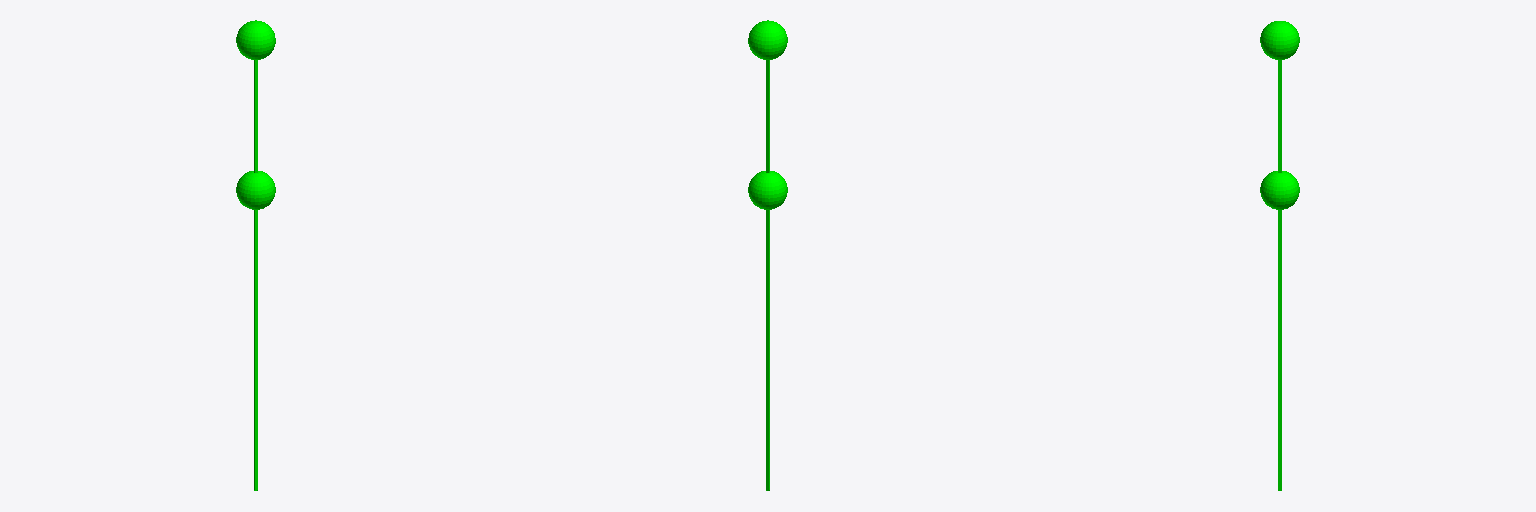
robot.urdf — pendulum:
<?xml version="1.0" ?>
<robot name="pendulum">
    <link name="world">
        <visual>
            <origin xyz="0 0 0" rpy="0 0 0" />
            <geometry>
                <sphere radius="0.005"/>
            </geometry>
            <material name="">
                <color rgba="0.0 1.0 0.0 0.4"/>
            </material>
        </visual>
        <inertial>
            <origin xyz="0.0 0.0 0.0" rpy="0.0 0.0 0.0"/>
            <mass value="1000.0"/>
            <inertia ixx="0.0" ixy="0.0" ixz="0.0" iyy="0.0" iyz="0.0" izz="0.0"/>
        </inertial>
    </link>

    <joint name="PendulumJoint" type="revolute">
      <origin xyz="0.0 0.0 0.0" rpy="0 0 0"/>
      <axis xyz="1 0 0"/>
      <parent link="world"/>
      <child link="PendulumArm"/>
      <limit effort="0" velocity="0" lower="-100" upper="100"/>
    </joint>

    <link name="PendulumArm">
        <visual>
            <origin xyz="0 0 0.5" rpy="0 0 0" />
            <geometry>
                <box size="0.01 0.01 1.0"/>
            </geometry>
            <material name="">
                <color rgba="0.0 1.0 0.0 0.4"/>
            </material>
        </visual>
        <inertial>
            <origin xyz="0.0 0.0 0.0" rpy="0.0 0.0 0.0"/>
            <mass value="0.0"/>
            <inertia ixx="0.0" ixy="0.0" ixz="0.0" iyy="0.0" iyz="0.0" izz="0.0"/>
        </inertial>
    </link>


    <joint name="PendulumMassJoint" type="fixed">
      <origin xyz="0.0 0.0 1.0" rpy="0 0 0"/>
      <parent link="PendulumArm"/>
      <child link="PendulumMass"/>
    </joint>
    <link name="PendulumMass">
        <visual>
            <origin xyz="0 0 0" rpy="0 0 0" />
            <geometry>
                <sphere radius="0.06"/>
            </geometry>
            <material name="">
                <color rgba="0.0 1.0 0.0 0.4"/>
            </material>
        </visual>
        <inertial>
            <origin xyz="0 0.0 0.0" rpy="0.0 0.0 0.0"/>
            <mass value="1.0"/>
            <inertia ixx="0.0" ixy="0.0" ixz="0.0" iyy="0.0" iyz="0.0" izz="0.0"/>
        </inertial>
    </link>

    <joint name="SecondPendulumJoint" type="revolute">
      <origin xyz="0.0 0.0 0.0" rpy="0 0 0"/>
      <axis xyz="1 0 0"/>
      <parent link="PendulumMass"/>
      <child link="SecondPendulumArm"/>
      <limit effort="0" velocity="0" lower="-100" upper="100"/>
    </joint>

    <link name="SecondPendulumArm">
        <visual>
            <origin xyz="0 0 0.25" rpy="0 0 0" />
            <geometry>
                <box size="0.01 0.01 0.5"/>
            </geometry>
            <material name="">
                <color rgba="0.0 1.0 0.0 0.4"/>
            </material>
        </visual>
        <inertial>
            <origin xyz="0.0 0.0 0.0" rpy="0.0 0.0 0.0"/>
            <mass value="0.0"/>
            <inertia ixx="0.0" ixy="0.0" ixz="0.0" iyy="0.0" iyz="0.0" izz="0.0"/>
        </inertial>
    </link>


    <joint name="SecondPendulumMassJoint" type="fixed">
      <origin xyz="0.0 0.0 0.5" rpy="0 0 0"/>
      <parent link="SecondPendulumArm"/>
      <child link="SecondPendulumMass"/>
    </joint>
    <link name="SecondPendulumMass">
        <visual>
            <origin xyz="0 0 0" rpy="0 0 0" />
            <geometry>
                <sphere radius="0.06"/>
            </geometry>
            <material name="">
                <color rgba="0.0 1.0 0.0 0.4"/>
            </material>
        </visual>
        <inertial>
            <origin xyz="0 0.0 0.0" rpy="0.0 0.0 0.0"/>
            <mass value="1.0"/>
            <inertia ixx="0.0" ixy="0.0" ixz="0.0" iyy="0.0" iyz="0.0" izz="0.0"/>
        </inertial>
    </link>
</robot>

--- Render facts (derived) ---
3 views of the same robot in one strip: view 1: azimuth 30°, elevation 25°; view 2: azimuth 150°, elevation 25°; view 3: azimuth 270°, elevation 25° (orthographic).
Model pendulum with 5 links and 4 joints (2 revolute, 2 fixed), rooted at world, posed every joint at zero.
Visible links, largest first — view 1: SecondPendulumMass, PendulumMass, PendulumArm; view 2: SecondPendulumMass, PendulumMass, PendulumArm; view 3: SecondPendulumMass, PendulumMass, PendulumArm.
Boxes of the visible links, bbox=[...] form: SecondPendulumMass: bbox=[236, 20, 275, 59]; PendulumMass: bbox=[236, 171, 275, 209]; PendulumArm: bbox=[254, 210, 257, 490]; SecondPendulumMass: bbox=[748, 20, 787, 59]; PendulumMass: bbox=[748, 171, 787, 209]; PendulumArm: bbox=[766, 210, 769, 490]; SecondPendulumMass: bbox=[1260, 21, 1299, 59]; PendulumMass: bbox=[1260, 171, 1299, 209]; PendulumArm: bbox=[1278, 210, 1281, 490].
Bounding box of the posed robot: 0.12 × 0.12 × 1.56 m (x, y, z).
Geometry: primitives only (box / cylinder / sphere), no mesh files.
